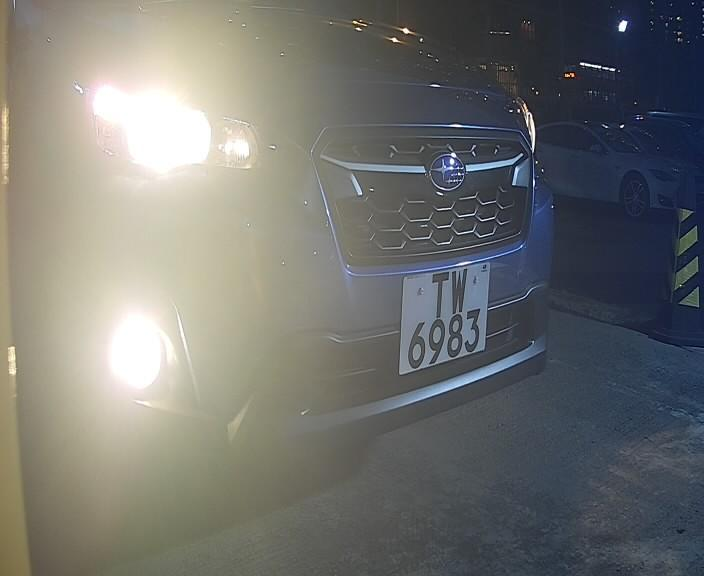Car: (29, 8, 620, 525)
License Plate: (393, 253, 497, 386)
